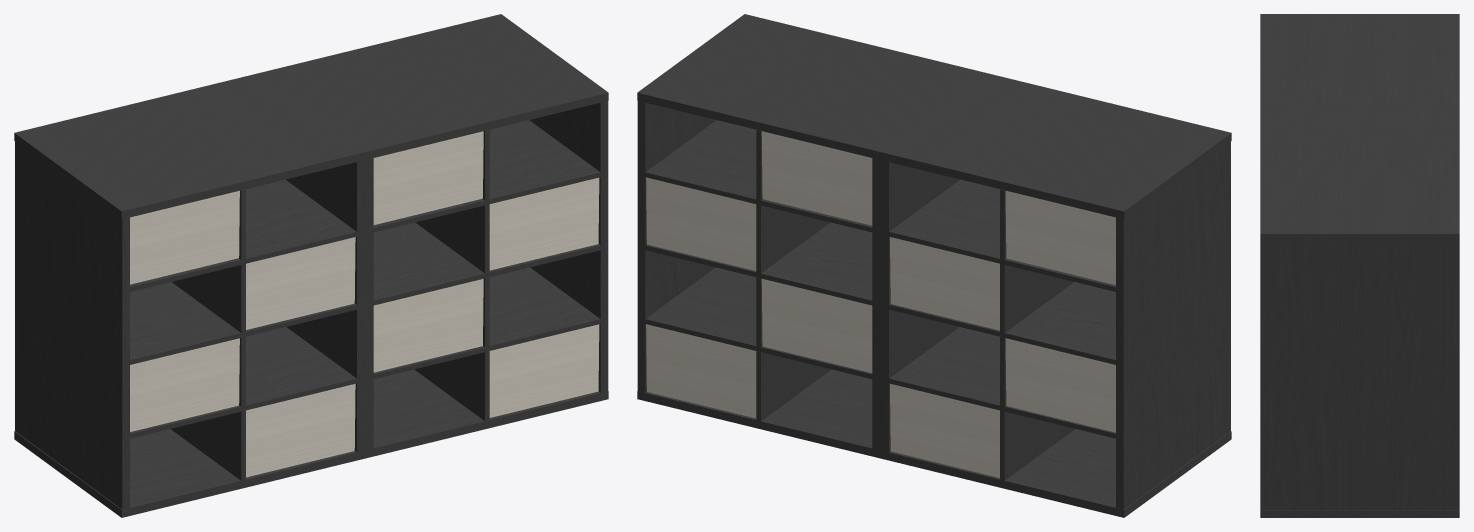
File: Cabinet with drawings.fbx
3 views of the same model, side by side, from view 1: azimuth 30°, elevation 25°; view 2: azimuth 150°, elevation 25°; view 3: azimuth 270°, elevation 25° (orthographic). The views are drawn at different scales.
Visible parts, largest first — view 1: Cabinet shelving, Drawer 5, Drawer 7, Drawer 8, Drawer 1, Drawer 3, Drawer 4, Drawer 6, Drawer 2; view 2: Cabinet shelving, Drawer 5, Drawer 7, Drawer 8, Drawer 1, Drawer 3, Drawer 4, Drawer 6, Drawer 2; view 3: Cabinet shelving.
Boxes of the visible parts, x1,y1,x2,y2 form: Cabinet shelving: (14, 14, 608, 517); Drawer 5: (373, 131, 483, 224); Drawer 7: (373, 279, 483, 372); Drawer 8: (489, 324, 599, 417); Drawer 1: (130, 190, 239, 284); Drawer 3: (130, 338, 239, 431); Drawer 4: (246, 384, 355, 477); Drawer 6: (489, 177, 599, 270); Drawer 2: (246, 237, 355, 329); Cabinet shelving: (637, 14, 1231, 517); Drawer 5: (761, 131, 872, 225); Drawer 7: (761, 278, 872, 372); Drawer 8: (646, 324, 756, 418); Drawer 1: (1005, 190, 1115, 284); Drawer 3: (1005, 338, 1115, 432); Drawer 4: (890, 383, 999, 477); Drawer 6: (646, 177, 756, 270); Drawer 2: (890, 237, 999, 330); Cabinet shelving: (1260, 14, 1459, 517).
Size of the model in its own units: 128 by 77.67 by 49.
